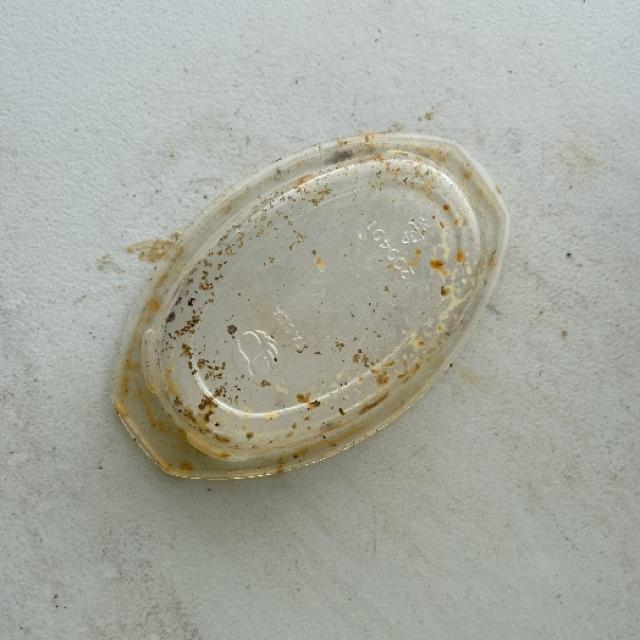plastic: (112, 129, 510, 480)
